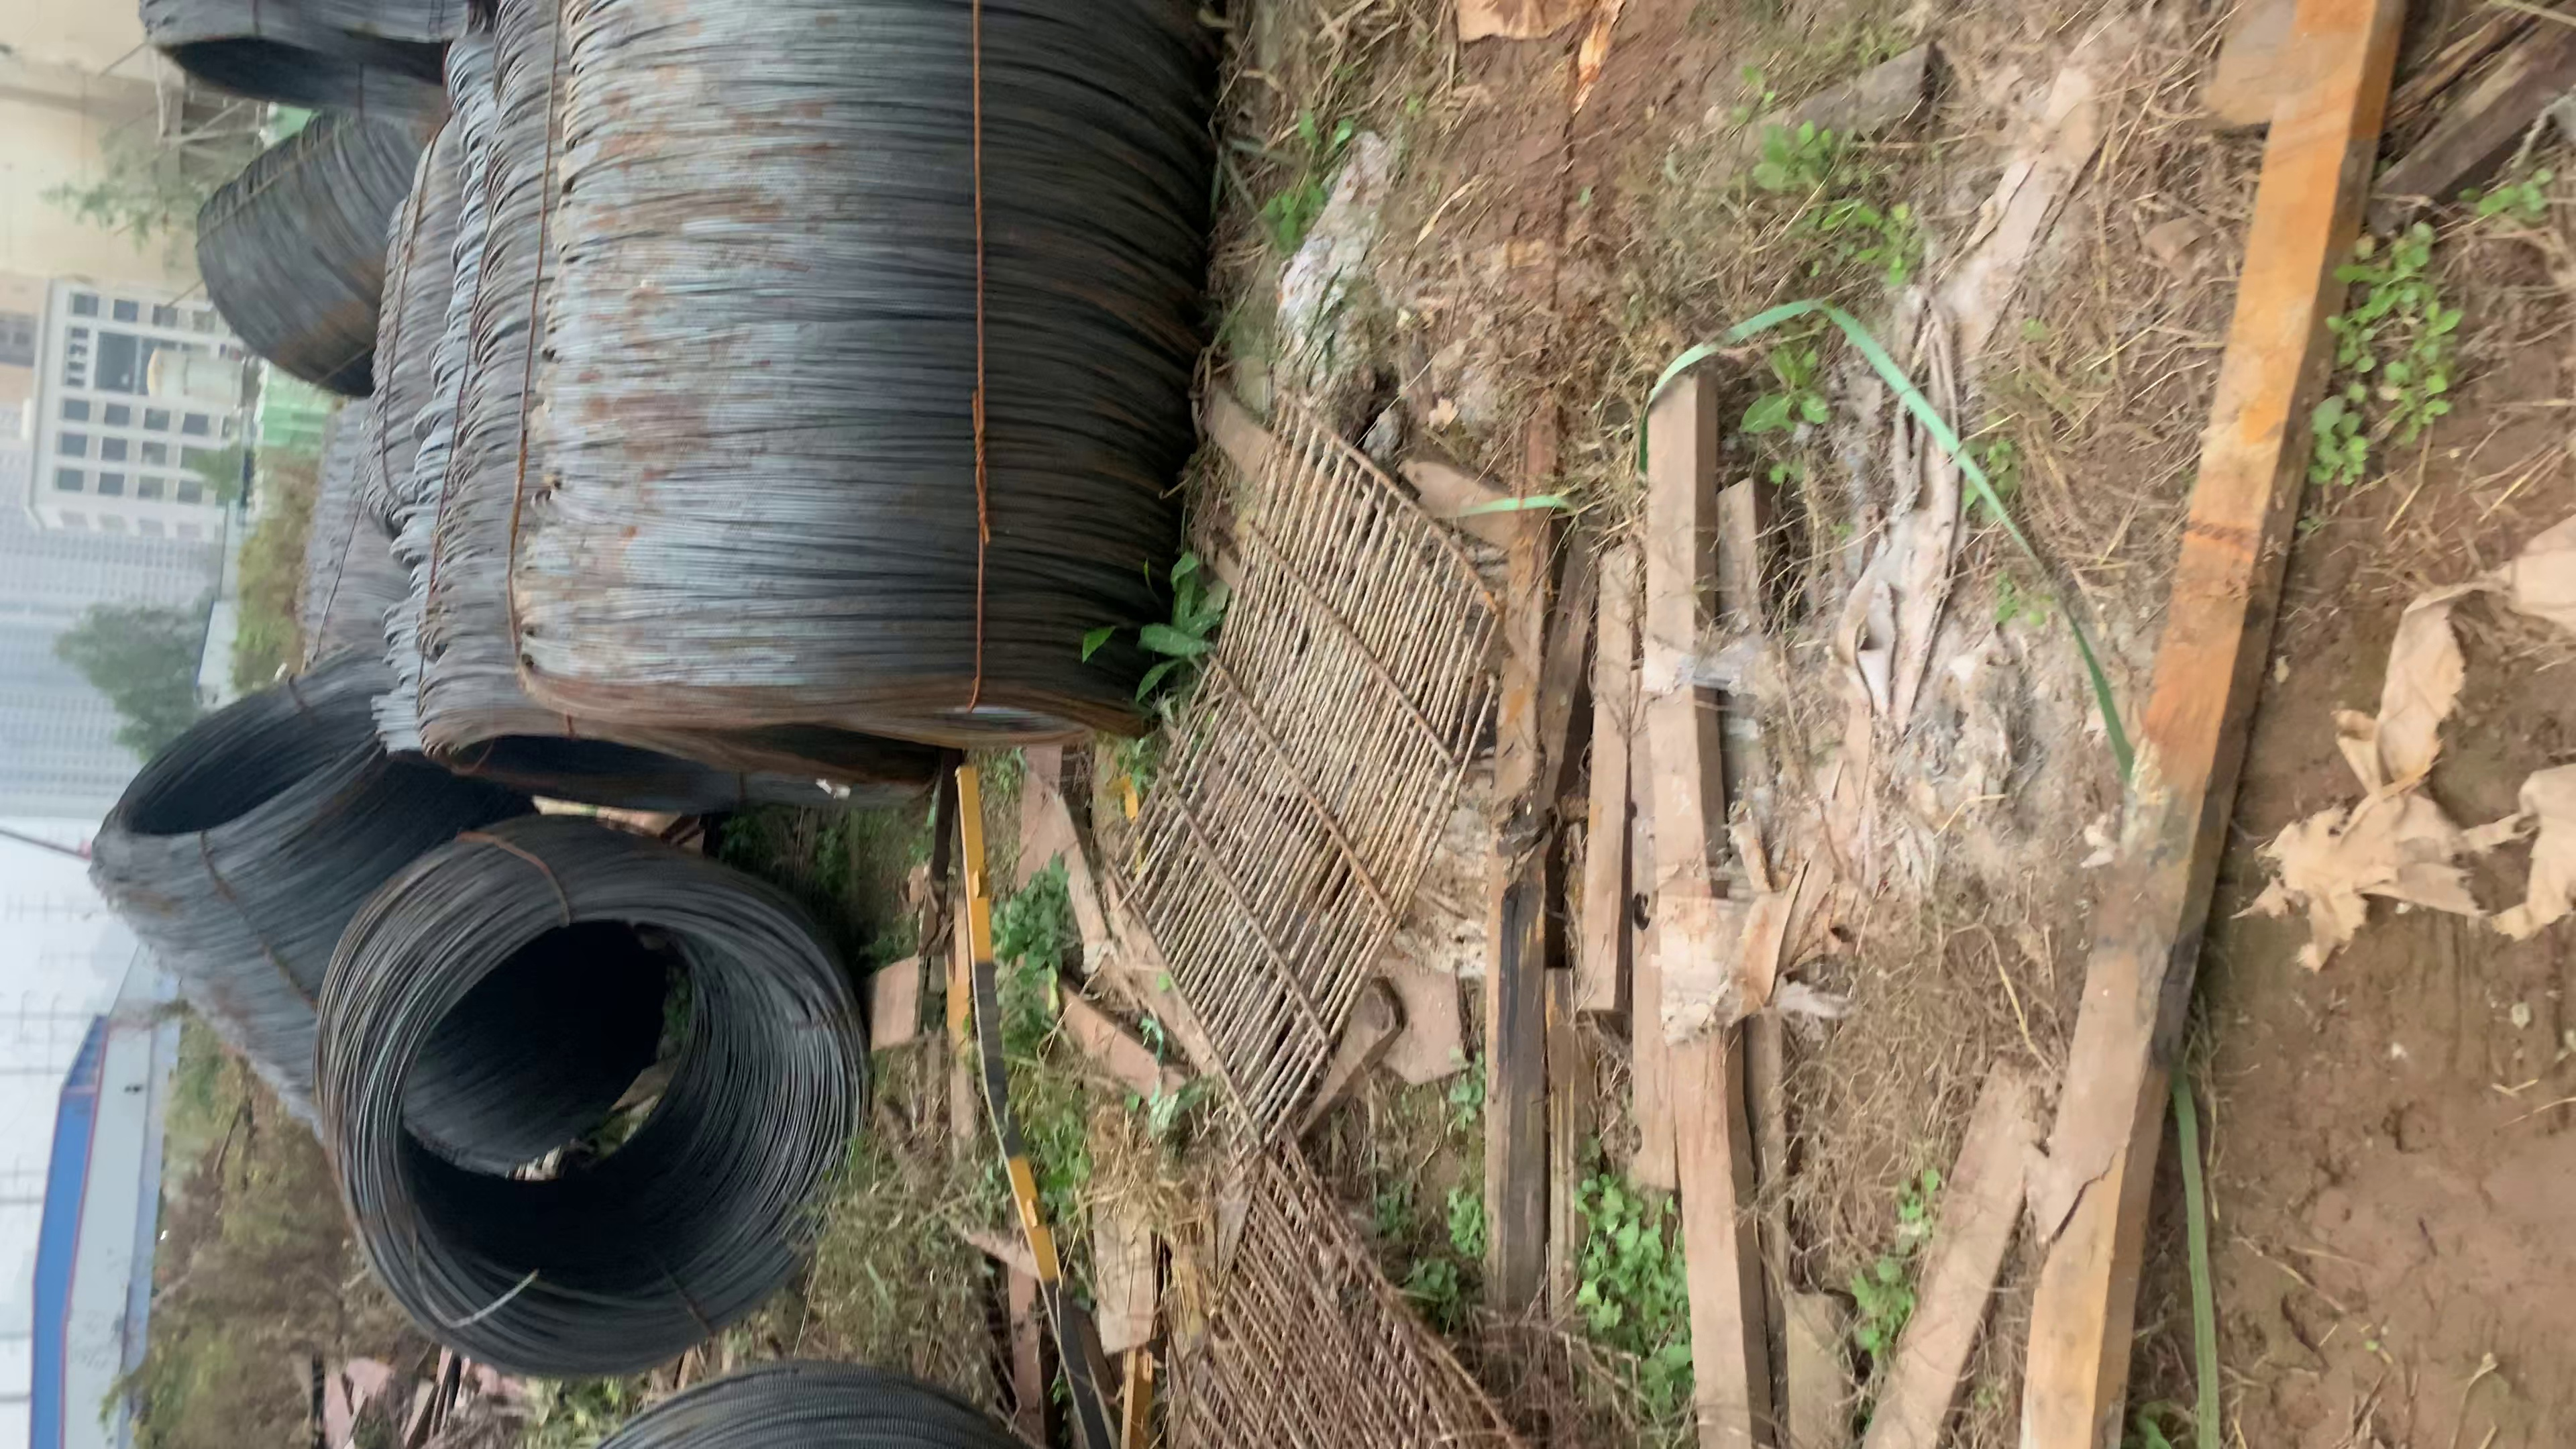coil: (352, 886, 878, 1368), (520, 663, 1191, 786), (402, 699, 948, 840), (69, 663, 439, 863), (136, 18, 416, 145)
